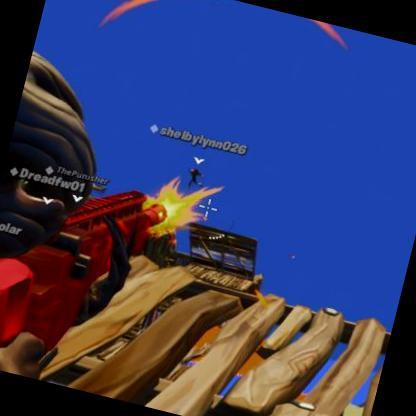person: (186, 168, 201, 187)
